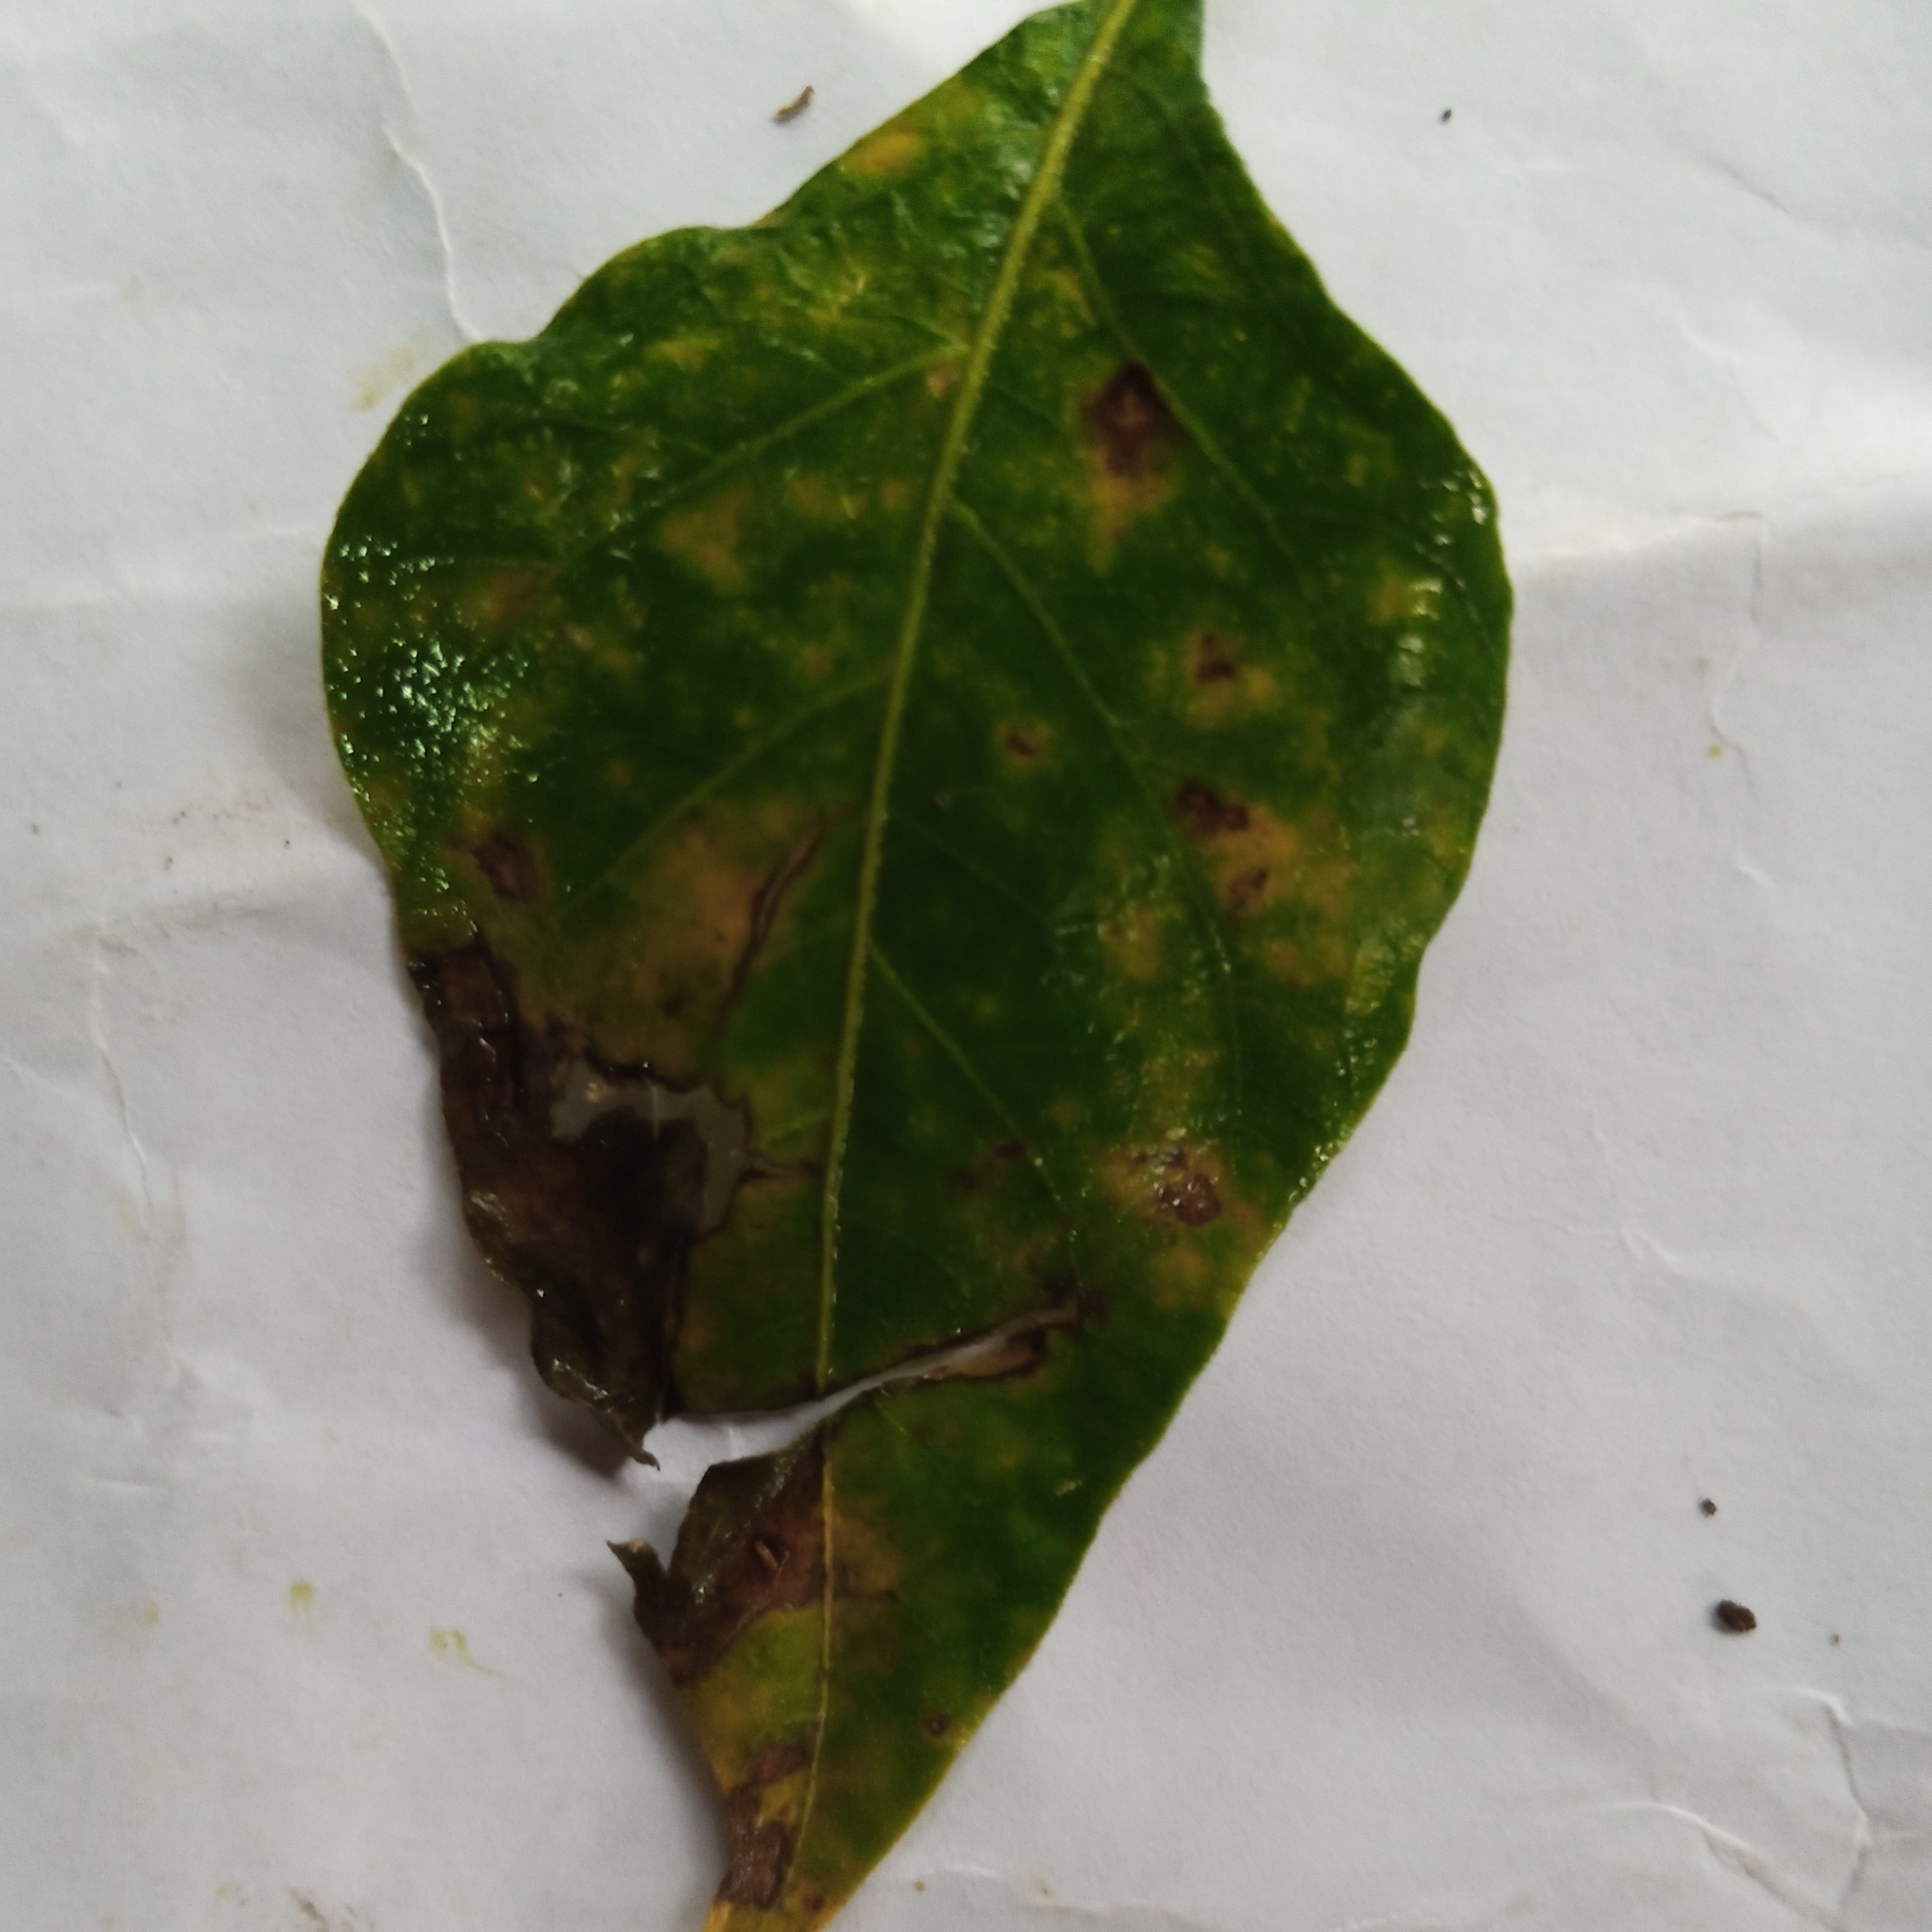Leaf: (175, 2, 1587, 1932)
